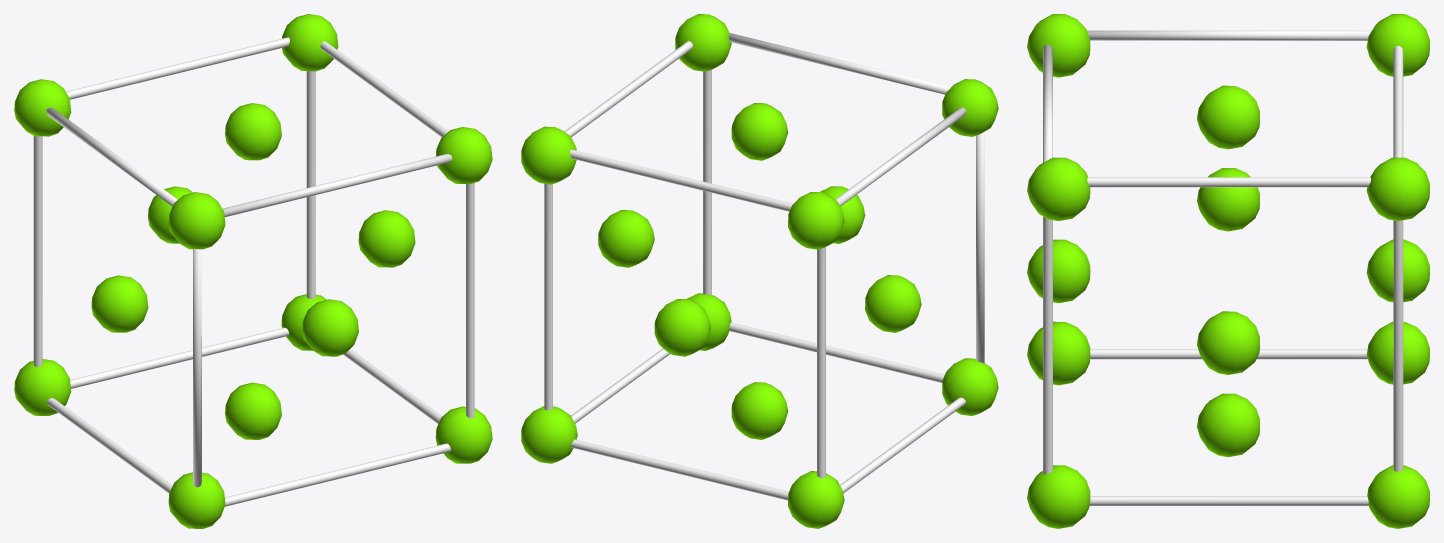
Rendered from CALCIO.fbx.
3 views of the same model, side by side, from view 1: azimuth 30°, elevation 25°; view 2: azimuth 150°, elevation 25°; view 3: azimuth 270°, elevation 25° (orthographic). The views are drawn at different scales.
Parts seen in each view (by area): view 1: Ca.003, limite.011; view 2: Ca.003, limite.011; view 3: Ca.003, limite.011.
Boxes of the visible parts, left/top/right/bottom form: Ca.003: left=14, top=14, right=492, bottom=528; limite.011: left=33, top=37, right=474, bottom=506; Ca.003: left=521, top=14, right=998, bottom=528; limite.011: left=544, top=33, right=984, bottom=500; Ca.003: left=1027, top=14, right=1429, bottom=528; limite.011: left=1043, top=30, right=1403, bottom=505.
Bounding box in the file's own units: 17.34 × 17.36 × 17.34.
